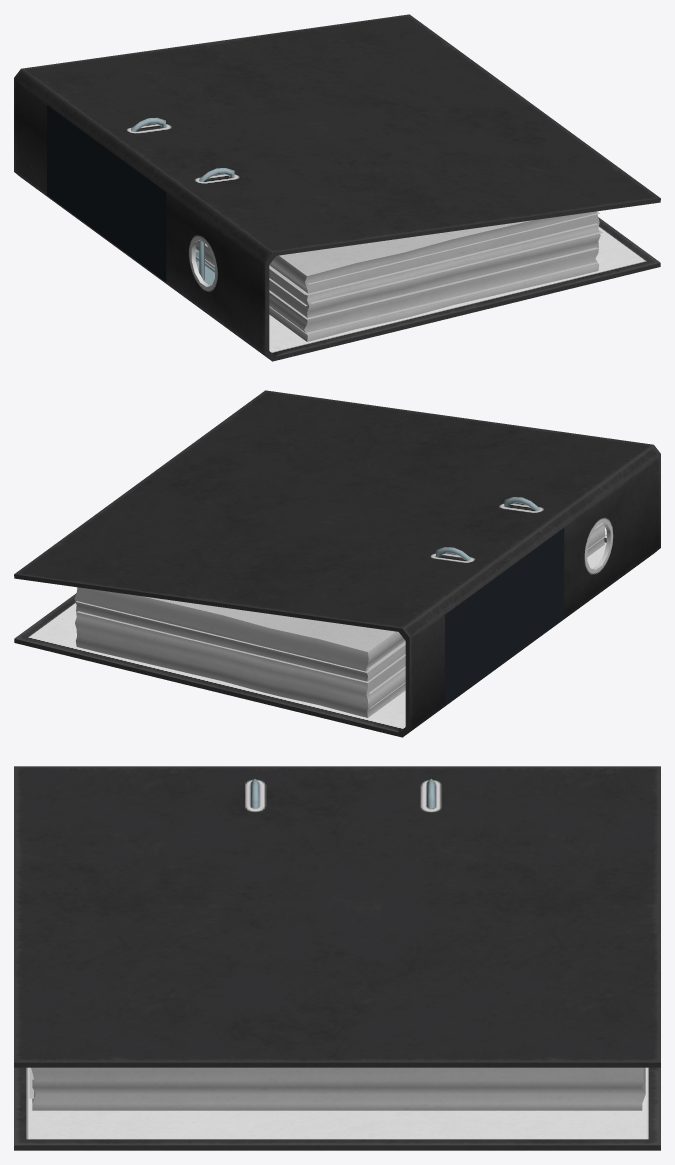
File: RingBinder.fbx
The picture shows the model from 3 angles, top to bottom: view 1: azimuth 30°, elevation 25°; view 2: azimuth 150°, elevation 25°; view 3: azimuth 270°, elevation 25°; orthographic projection. The views are drawn at different scales.
Parts seen in each view (by area): view 1: RingBinder_LOD0; view 2: RingBinder_LOD0; view 3: RingBinder_LOD0.
Part boxes in pixels (x1,y1,x2,y2): RingBinder_LOD0: (14,14,660,361); RingBinder_LOD0: (14,390,660,737); RingBinder_LOD0: (14,766,660,1150).
Size of what is drawn, in the model's own units: 28.72 by 7.98 by 31.51.
